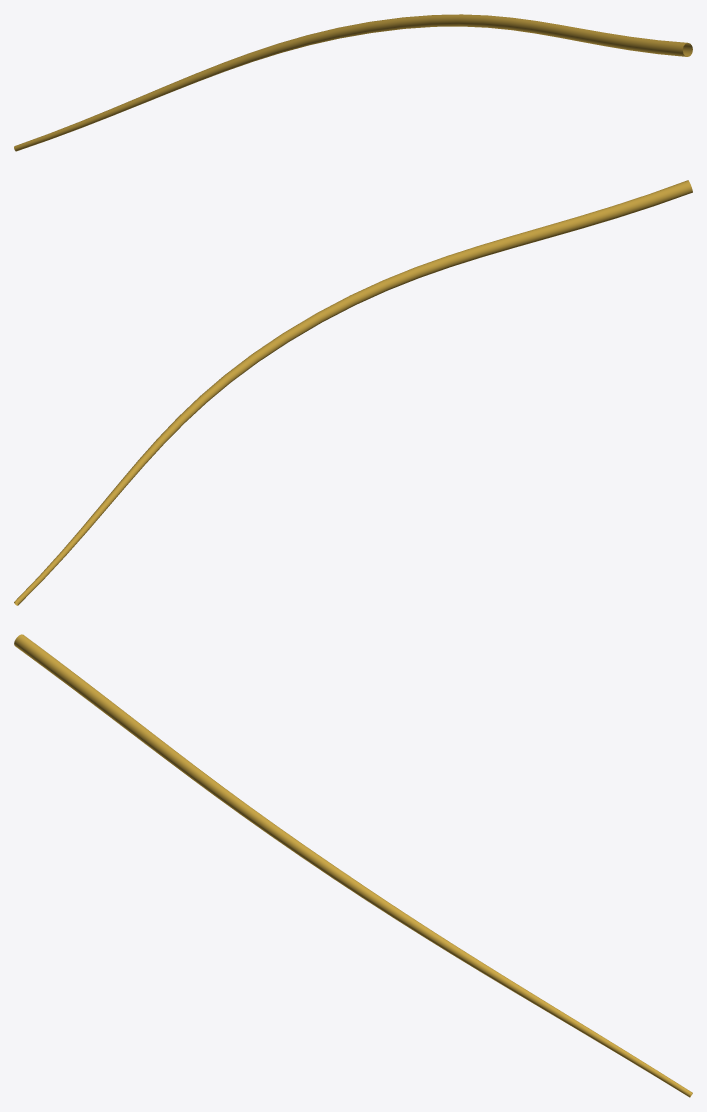
3 views of the same model, one above another, from view 1: azimuth 90°, elevation 25°; view 2: azimuth 150°, elevation 25°; view 3: azimuth 270°, elevation 25° (orthographic). The views are drawn at different scales.
Visible parts, largest first — view 1: 左侧臂外侧下皮神经; view 2: 左侧臂外侧下皮神经; view 3: 左侧臂外侧下皮神经.
Boxes of the visible parts, x1,y1,x2,y2 form: 左侧臂外侧下皮神经: [14, 14, 692, 151]; 左侧臂外侧下皮神经: [14, 180, 692, 605]; 左侧臂外侧下皮神经: [14, 634, 692, 1097].
Size of the model in its own units: 0.0443 by 0.0325 by 0.07.
